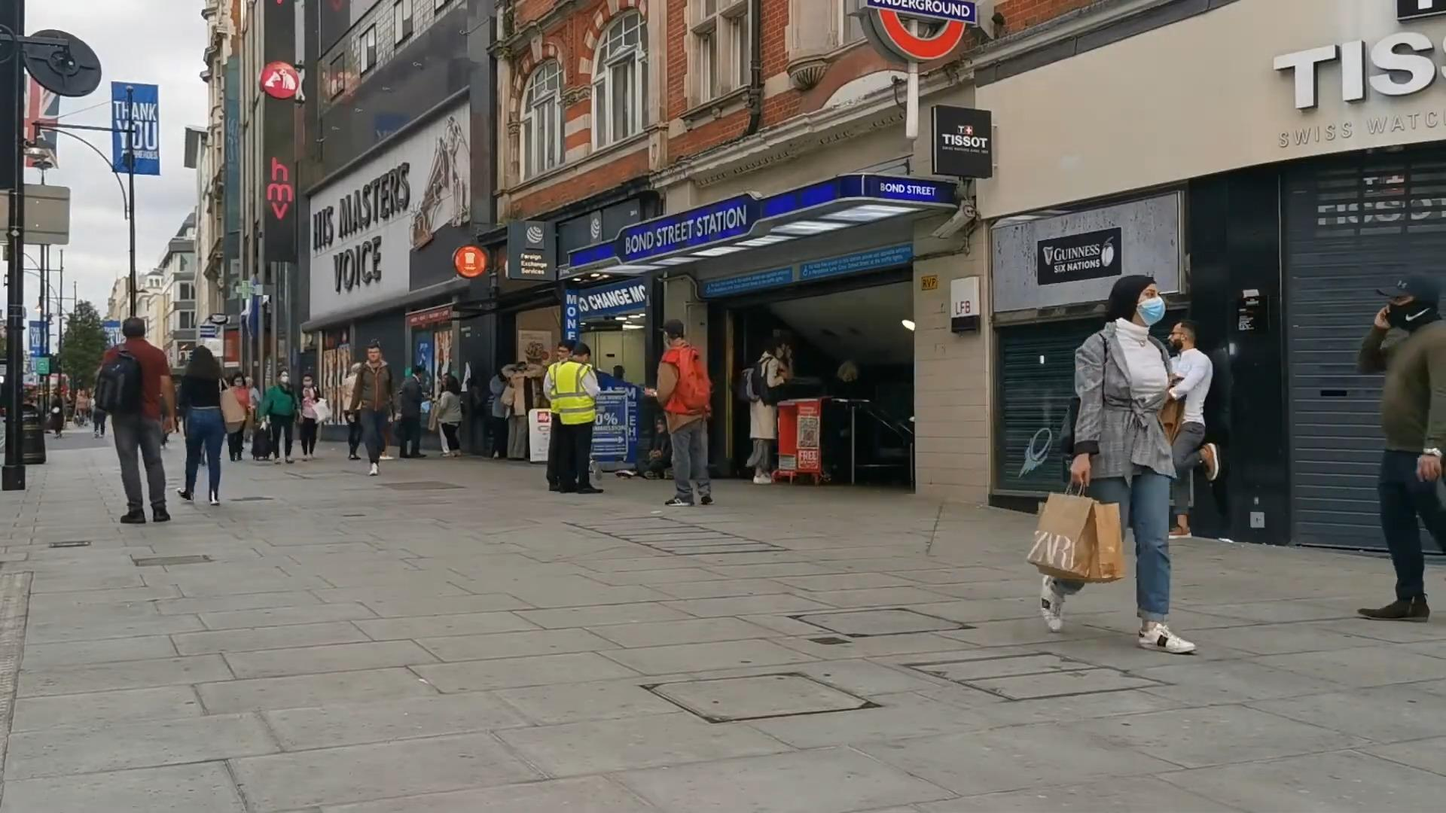no-helmet: (1376, 272, 1440, 332), (1106, 276, 1165, 327), (184, 345, 223, 380), (1167, 321, 1195, 354), (656, 319, 684, 349), (123, 317, 145, 339), (557, 338, 576, 363), (572, 342, 592, 363), (366, 343, 382, 362), (276, 366, 290, 385), (301, 371, 315, 388), (231, 372, 246, 387)
